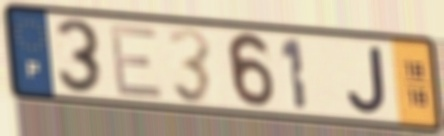1: (279, 37, 312, 113)
3: (166, 24, 218, 107), (53, 17, 106, 97)
6: (224, 29, 277, 112)
E: (107, 22, 167, 102)
J: (344, 43, 389, 117)
